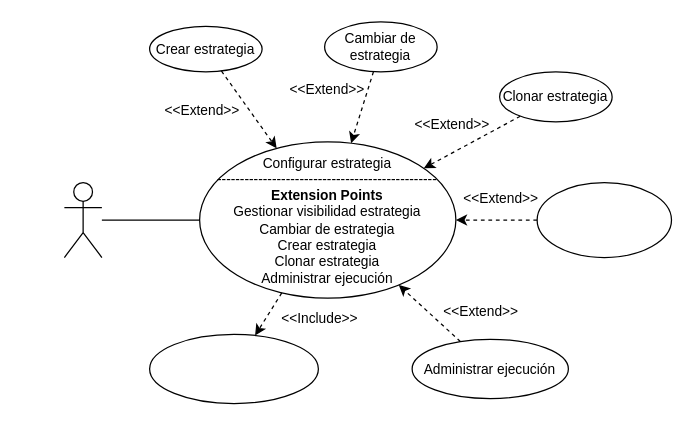
Image size: 694x426. Some labels were removed from this diagram. The shapes that lost their labels are listed below. From the top down, each one's centre as x and y in pixels, then its label:
point (82, 219): Usuario Autenticado
point (604, 219): Gestionar visibilidad de estrategia
point (233, 368): Explorar gráfico de velas
